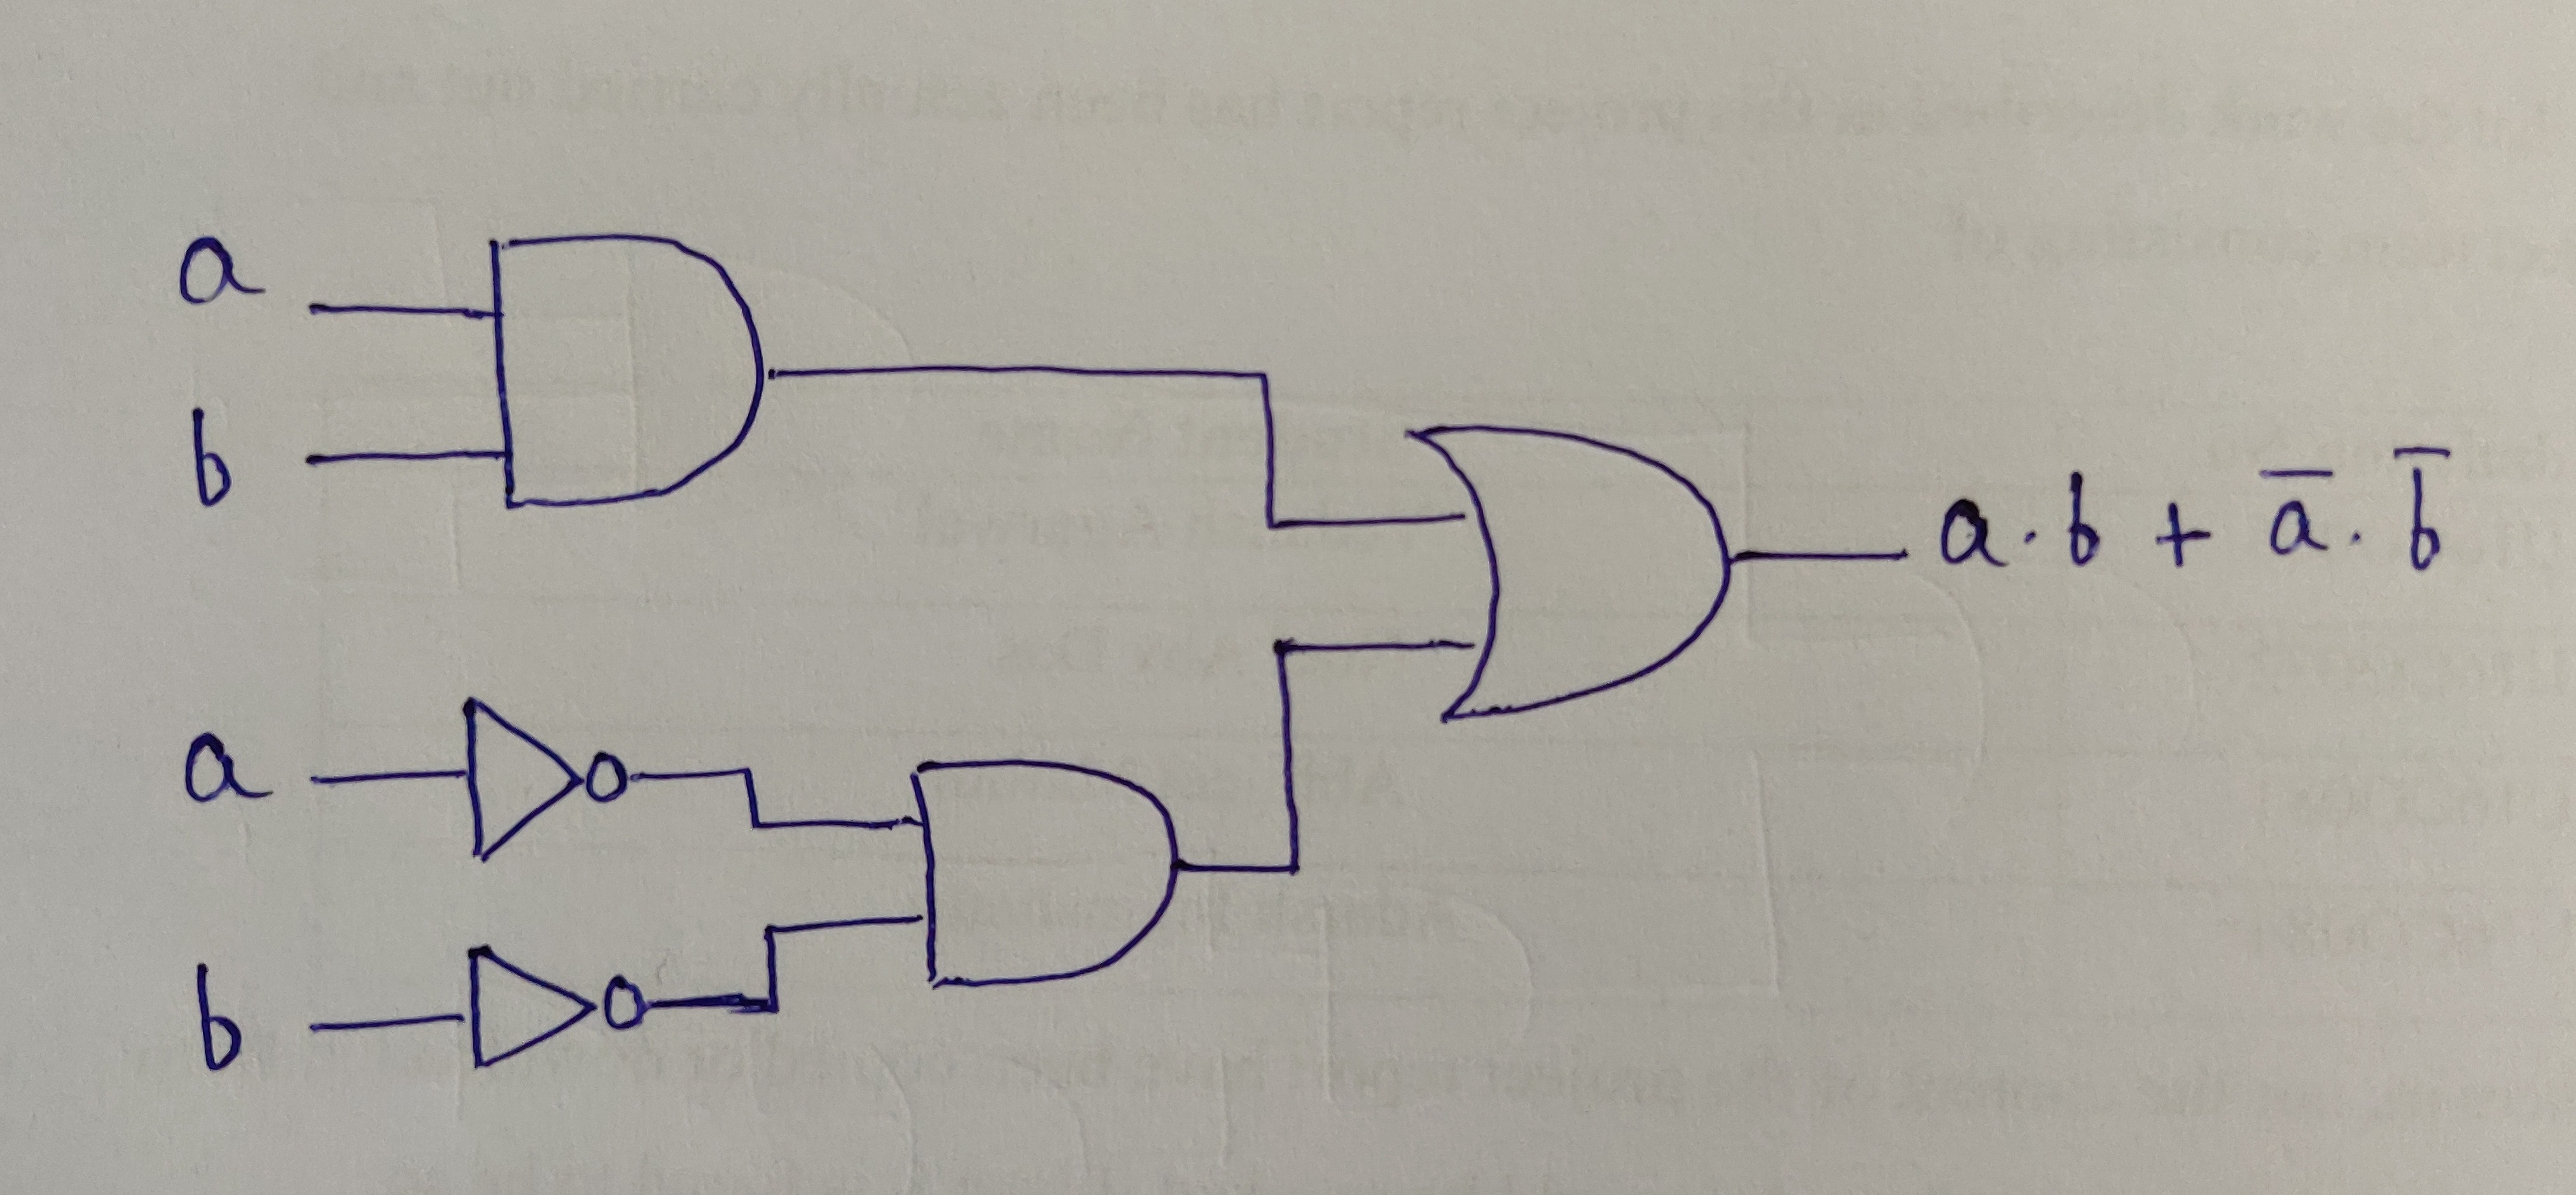and: (401, 177, 830, 568), (846, 712, 1244, 1039)
not: (409, 663, 652, 867), (422, 924, 683, 1103)
or: (1387, 387, 1791, 730)
